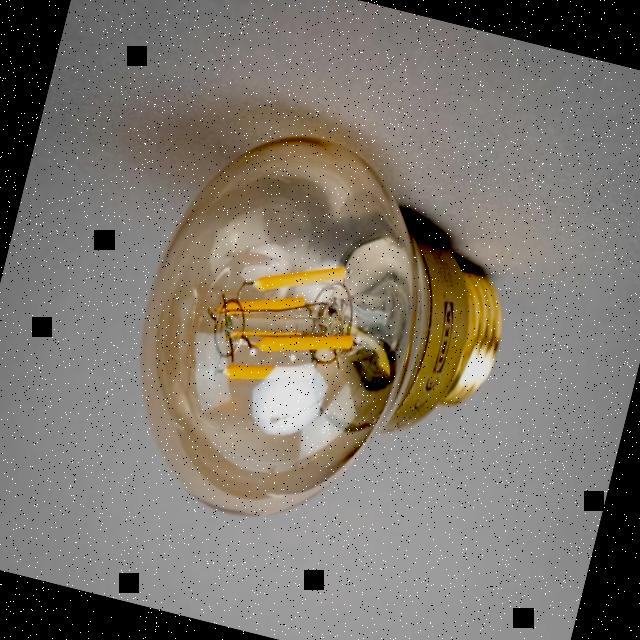light_bulb: (94, 81, 544, 592)
